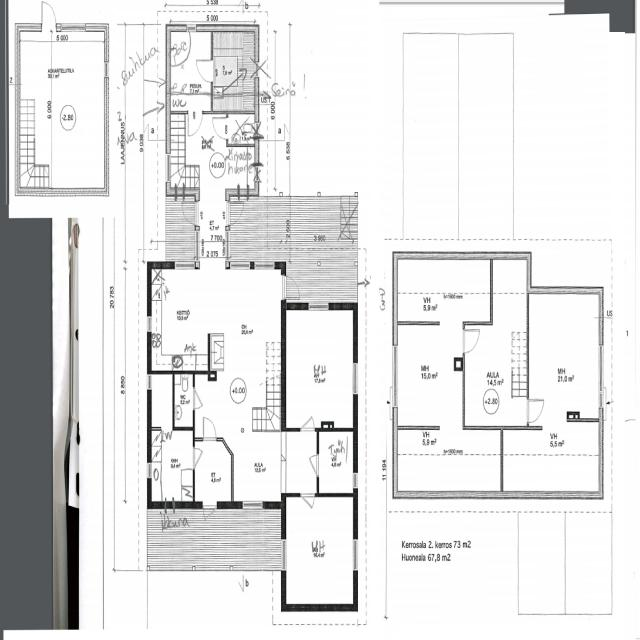door: (524, 392, 546, 427), (461, 323, 482, 356), (282, 272, 301, 302), (200, 413, 218, 443), (227, 199, 246, 226), (196, 56, 214, 84), (40, 1, 57, 29), (201, 500, 219, 526), (182, 198, 198, 227), (211, 115, 228, 142), (188, 110, 204, 138), (300, 491, 316, 512), (300, 412, 316, 433), (308, 451, 320, 477), (191, 389, 204, 413), (192, 443, 203, 469), (160, 426, 174, 446)
window: (389, 338, 400, 412), (597, 339, 609, 406), (200, 499, 220, 520), (240, 497, 266, 512), (73, 442, 83, 478), (351, 359, 360, 398), (351, 535, 360, 574), (306, 300, 331, 314), (280, 534, 288, 576), (229, 260, 253, 274), (252, 260, 276, 273), (172, 260, 198, 272), (60, 22, 86, 34), (598, 380, 607, 411), (163, 150, 171, 183), (279, 271, 287, 301), (194, 226, 201, 260), (164, 499, 177, 516), (351, 468, 360, 491), (145, 312, 153, 335), (172, 25, 190, 33), (146, 371, 152, 394), (146, 461, 152, 482), (104, 58, 110, 79), (185, 24, 198, 33)
zone: (465, 258, 530, 430), (150, 267, 254, 370), (527, 290, 604, 424), (284, 307, 356, 430), (284, 492, 356, 608), (500, 421, 601, 497), (394, 324, 465, 426), (395, 257, 492, 325), (232, 430, 284, 503), (168, 29, 213, 111), (212, 29, 257, 104), (150, 429, 194, 503), (194, 437, 233, 504), (318, 430, 355, 494), (214, 66, 257, 109), (150, 372, 173, 430), (173, 372, 195, 428), (265, 95, 289, 140), (227, 111, 256, 145), (228, 144, 255, 173)
